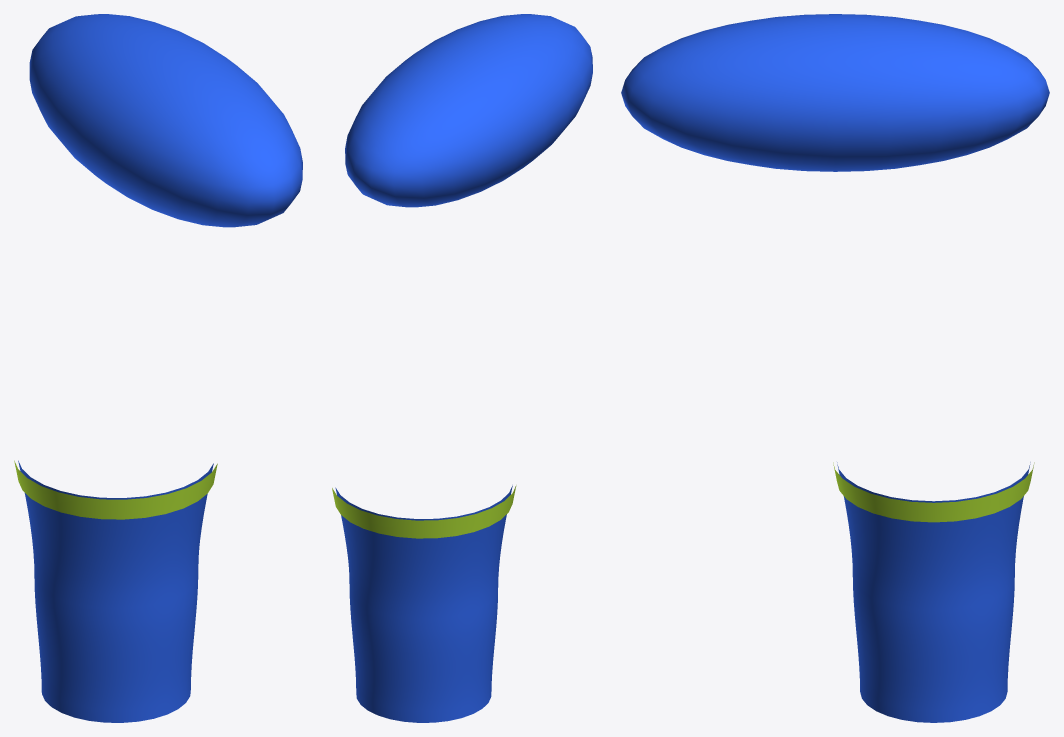
Rendered from socks_crew_female.glb.
3 renders of one model, left to right at view 1: azimuth 30°, elevation 25°; view 2: azimuth 150°, elevation 25°; view 3: azimuth 270°, elevation 25°, orthographic. The views are drawn at different scales.
Visible parts, largest first — view 1: sock_foot, sock, sock_band; view 2: sock_foot, sock, sock_band; view 3: sock_foot, sock, sock_band.
Boxes of the visible parts, left/top/right/bottom form: sock_foot: left=29, top=14, right=302, bottom=227; sock: left=18, top=460, right=213, bottom=722; sock_band: left=14, top=460, right=217, bottom=519; sock_foot: left=345, top=14, right=592, bottom=207; sock: left=335, top=485, right=512, bottom=722; sock_band: left=332, top=485, right=516, bottom=538; sock_foot: left=621, top=14, right=1049, bottom=171; sock: left=837, top=462, right=1030, bottom=722; sock_band: left=833, top=462, right=1034, bottom=522.
Bounding box in the file's own units: 0.1029 × 0.374 × 0.218.
